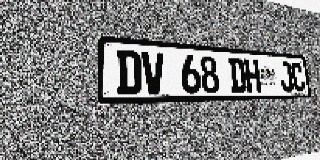6: (180, 54, 202, 94)
8: (199, 55, 220, 93)
C: (290, 62, 305, 92)
D: (116, 49, 142, 95), (228, 58, 247, 93)
H: (244, 59, 261, 92)
J: (278, 61, 294, 92)
V: (141, 51, 165, 94)
